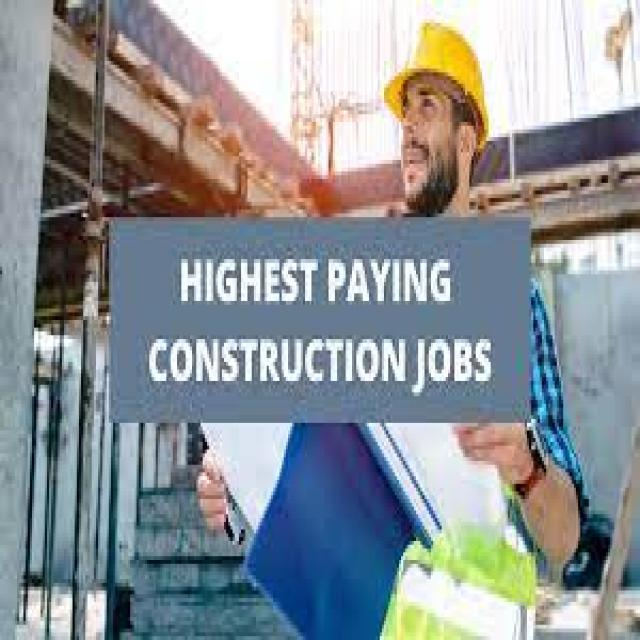Safety-Helmet: (380, 11, 495, 141)
